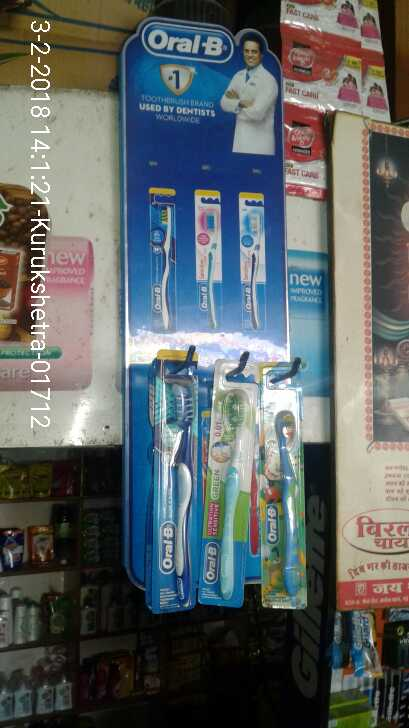oralb: (152, 376, 197, 607), (213, 372, 247, 607), (275, 396, 311, 615)
